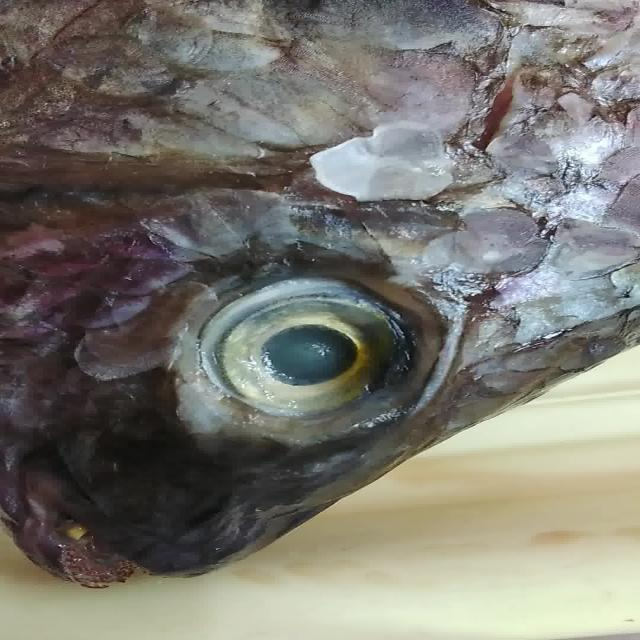Non-Fresh: (38, 24, 618, 552)
